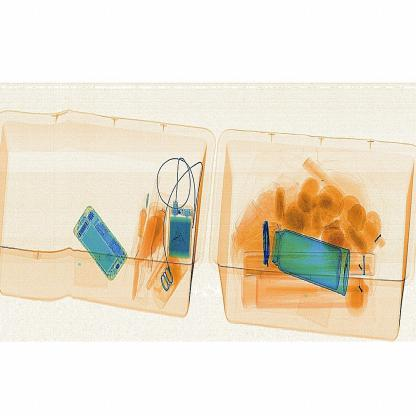knife: (252, 217, 274, 270)
